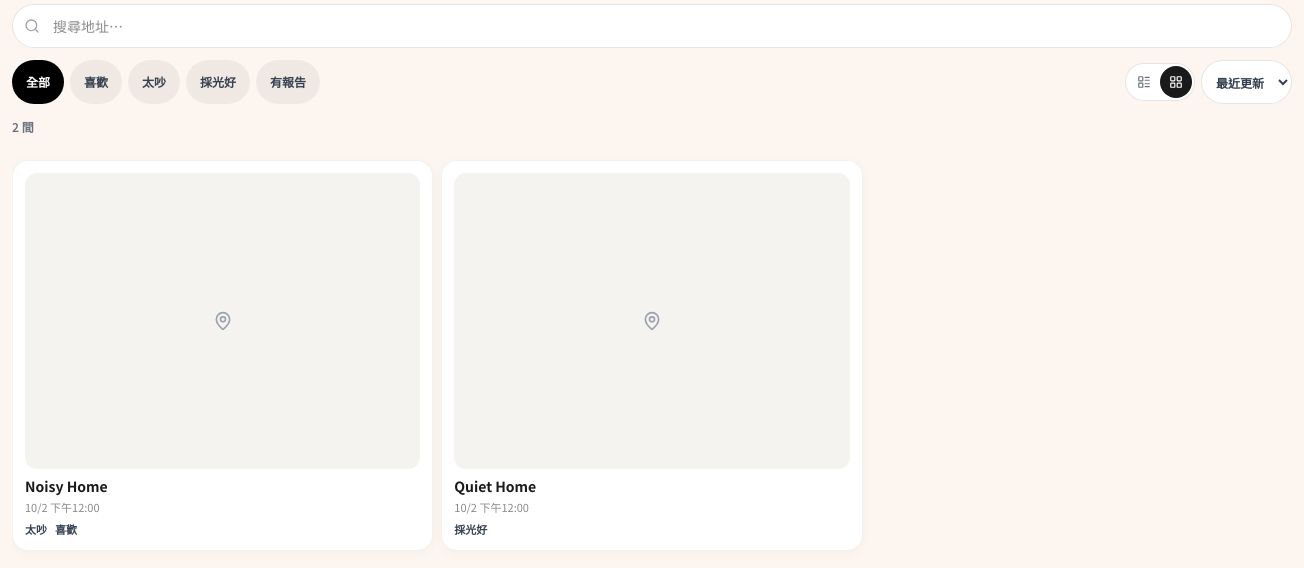
Test: ViewingsIndex › shows only tags that appear in the list and filters by them
Expected: the button "採光好" is shown, [186,60,250,104]
Expected: the button "喜歡" is shown, [70,60,122,104]
Click the button "太吵" at (154, 82), box [128,60,180,104]
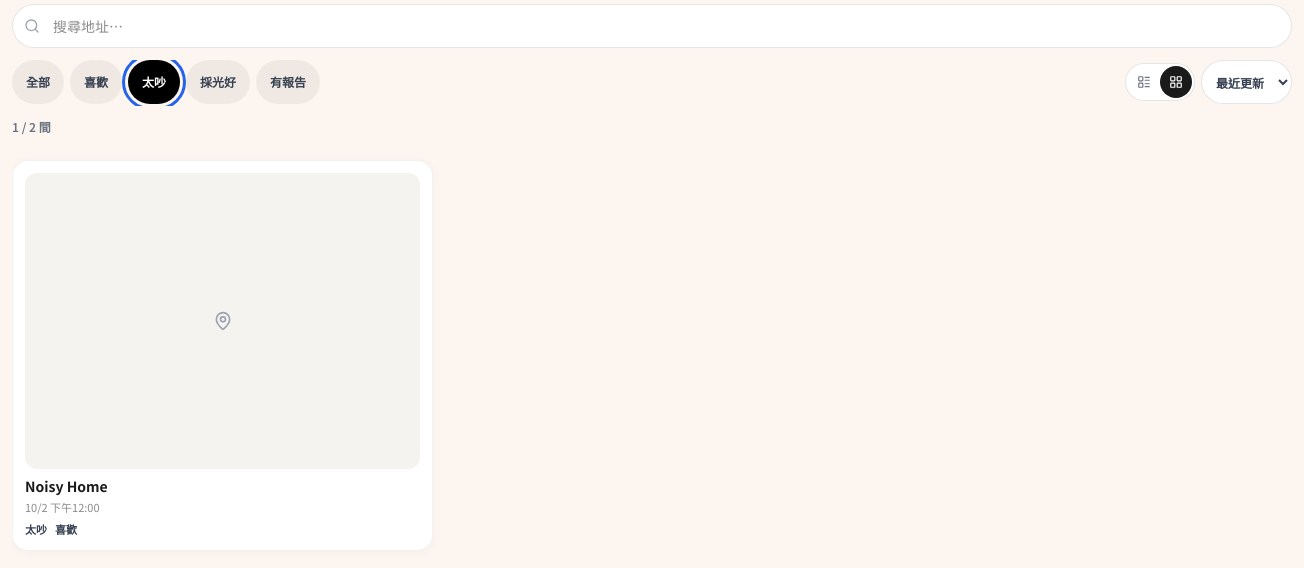
Expected: the text "Noisy Home" is shown, [25,476,108,496]
Expected: the link "Quiet Home" is gone
